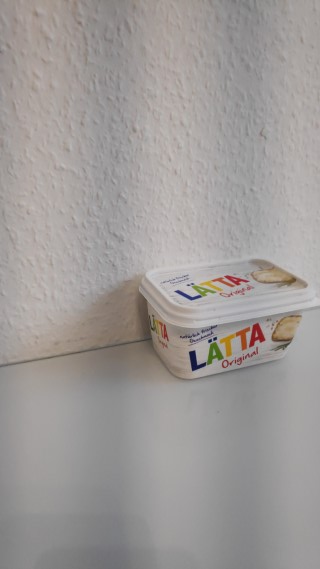laetta: (138, 255, 320, 381)
